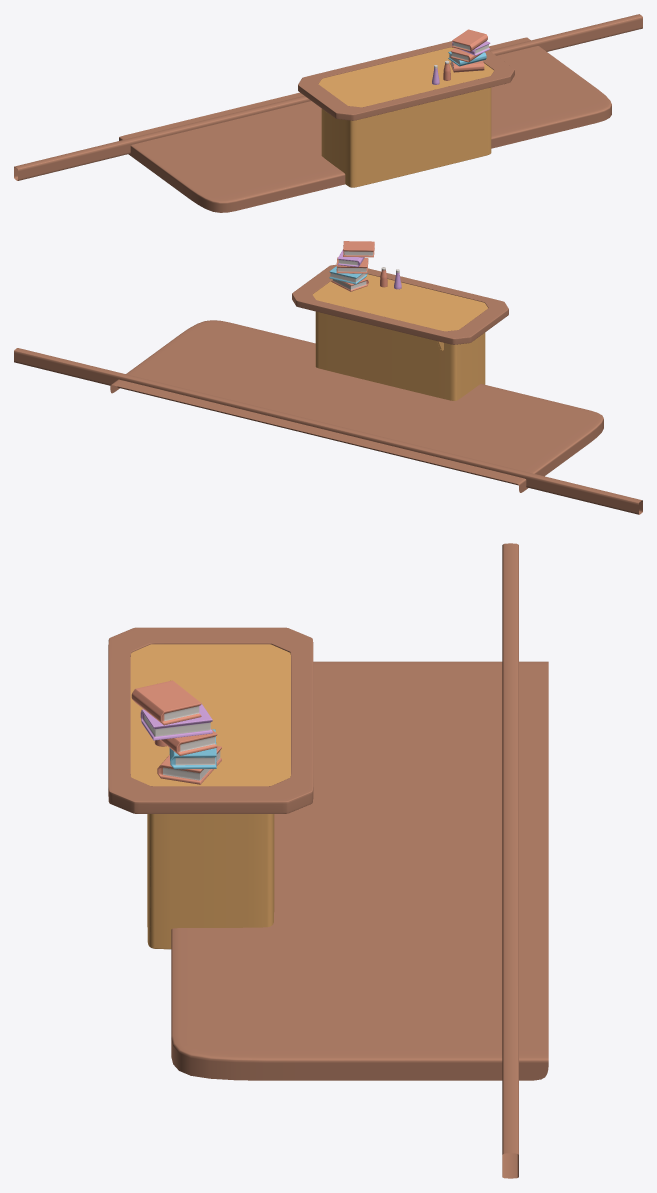
File: jiantai.fbx
The picture shows the model from 3 angles, top to bottom: view 1: azimuth 30°, elevation 25°; view 2: azimuth 150°, elevation 25°; view 3: azimuth 270°, elevation 25°; orthographic projection. The views are drawn at different scales.
Visible parts, largest first — view 1: objsphere18; view 2: objsphere18; view 3: objsphere18.
Part boxes in pixels (bbox=[...]): objsphere18: bbox=[14, 14, 642, 212]; objsphere18: bbox=[14, 241, 642, 514]; objsphere18: bbox=[108, 543, 548, 1178].
Size of the model in its own units: 301 by 54.21 by 91.93.
